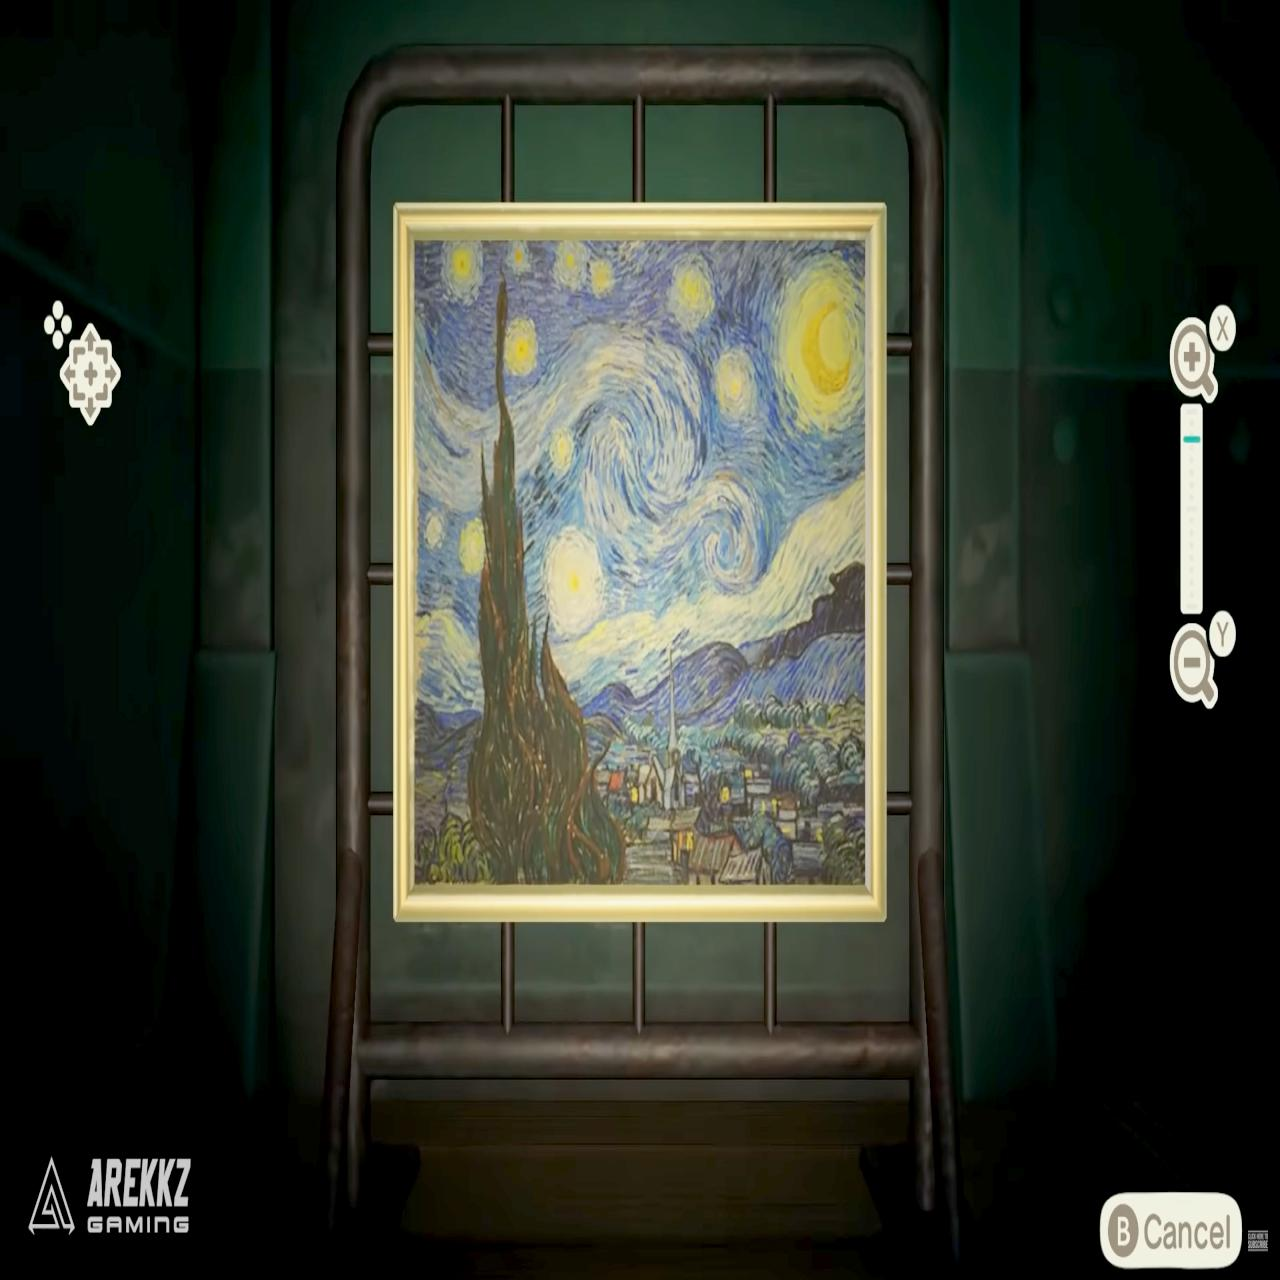StarryNight: (411, 234, 866, 887)
